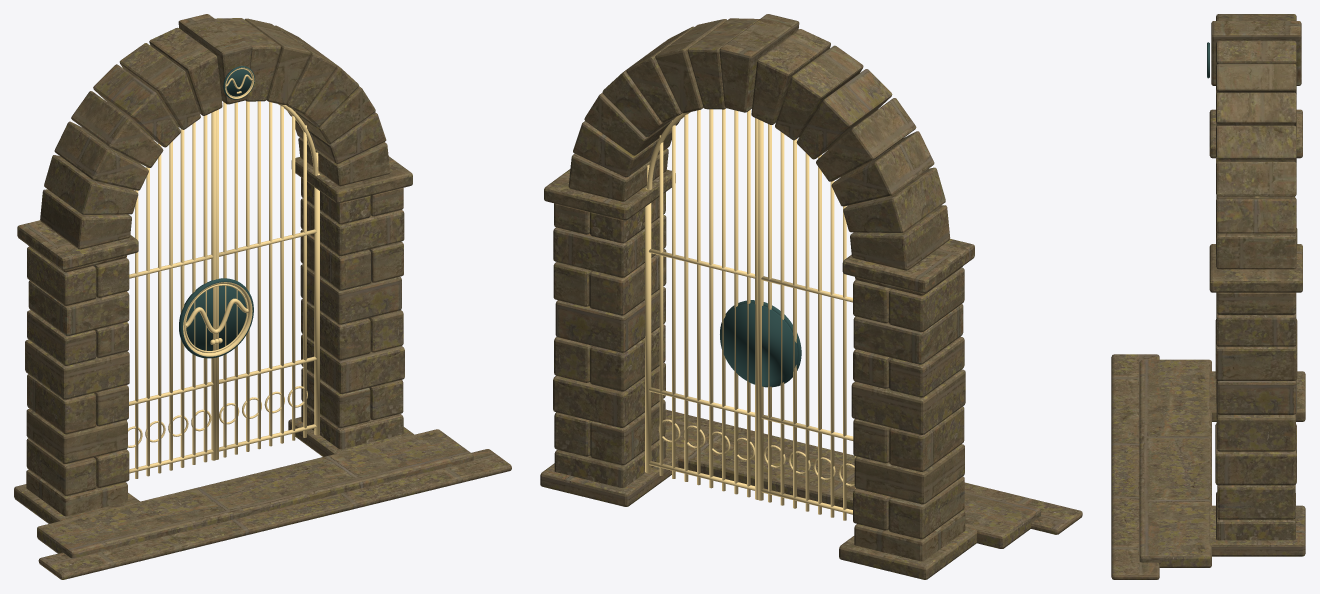
File: gate.glb
3 renders of one model, left to right at view 1: azimuth 30°, elevation 25°; view 2: azimuth 150°, elevation 25°; view 3: azimuth 270°, elevation 25°, orthographic. The views are drawn at different scales.
Visible parts, largest first — view 1: Step, Step.001, Pillar.006, Pillar.019, Arch.009, Arch.011, Pillar.016, Arch.008, Arch.012, Arch.010, Pillar.009, Pillar.003 (+53 smaller); view 2: Step, Pillar.006, Pillar.019, Arch.009, Arch.011, Pillar.016, Keystone, Arch.008, Arch.012, Arch.010, Pillar.003, Pillar.009 (+53 smaller); view 3: Step, Step.001, Arch.003, Arch, Arch.001, Pillar.018, Pillar.016, Pillar.021, Arch.002, Pillar.015, Arch.004, Pillar.019 (+11 smaller).
Part boxes in pixels (left/top/right/bottom): Step: left=37, top=429, right=473, bottom=558; Step.001: left=38, top=449, right=511, bottom=579; Pillar.006: left=25, top=339, right=129, bottom=399; Pillar.019: left=300, top=264, right=401, bottom=324; Arch.009: left=93, top=64, right=180, bottom=147; Arch.011: left=54, top=121, right=148, bottom=190; Pillar.016: left=301, top=334, right=404, bottom=394; Arch.008: left=119, top=43, right=200, bottom=129; Arch.012: left=44, top=155, right=138, bottom=214; Arch.010: left=71, top=91, right=163, bottom=167; Pillar.009: left=28, top=280, right=129, bottom=335; Pillar.003: left=26, top=409, right=127, bottom=463; Step: left=664, top=417, right=1040, bottom=548; Pillar.006: left=851, top=369, right=965, bottom=434; Pillar.019: left=555, top=287, right=665, bottom=352; Arch.009: left=796, top=69, right=892, bottom=159; Arch.011: left=831, top=131, right=934, bottom=206; Pillar.016: left=553, top=363, right=665, bottom=427; Keystone: left=719, top=14, right=799, bottom=112; Arch.008: left=775, top=45, right=863, bottom=140; Arch.012: left=843, top=167, right=945, bottom=232; Arch.010: left=816, top=98, right=916, bottom=181; Pillar.003: left=854, top=444, right=964, bottom=504; Pillar.009: left=853, top=304, right=963, bottom=364; Step: left=1139, top=359, right=1211, bottom=567; Step.001: left=1111, top=354, right=1159, bottom=579; Arch.003: left=1216, top=125, right=1296, bottom=163; Arch: left=1216, top=231, right=1296, bottom=269; Arch.001: left=1216, top=197, right=1296, bottom=233; Pillar.018: left=1216, top=405, right=1295, bottom=451; Pillar.016: left=1215, top=423, right=1296, bottom=485; Pillar.021: left=1215, top=335, right=1297, bottom=380; Arch.002: left=1216, top=161, right=1296, bottom=196; Pillar.015: left=1217, top=485, right=1295, bottom=519; Arch.004: left=1216, top=92, right=1296, bottom=127; Pillar.019: left=1217, top=380, right=1296, bottom=414.
Bounding box in the file's own units: 6.5 × 6.07 × 2.41.
3 materials, 1 textured.
